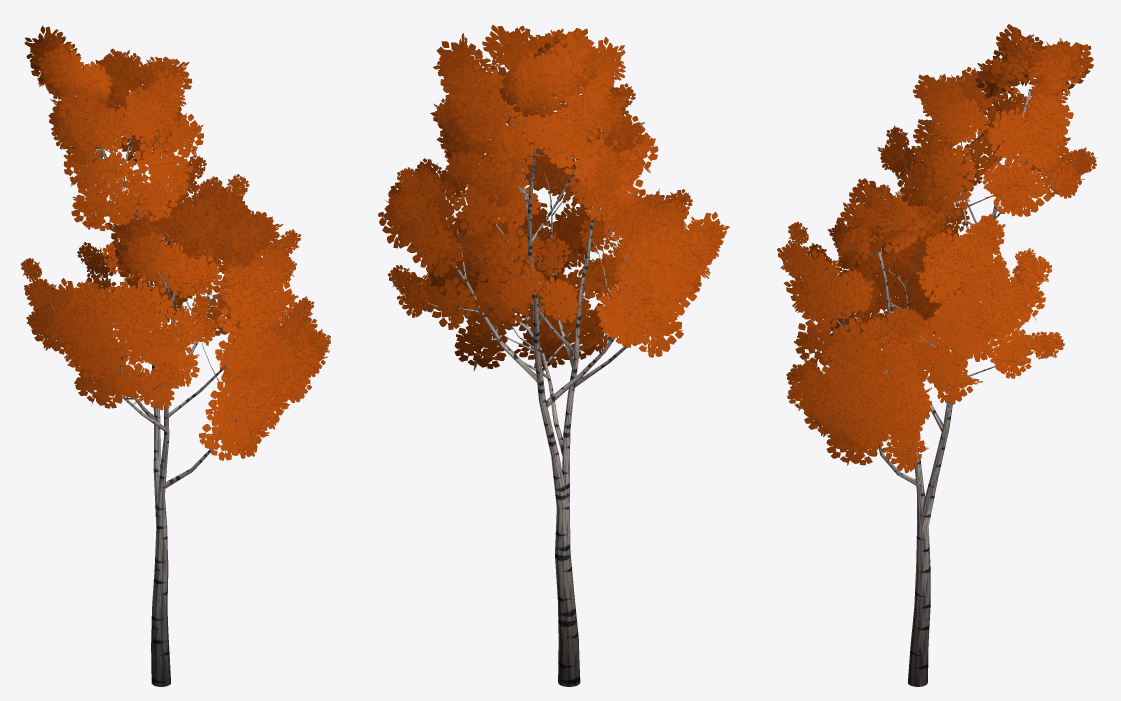
Rendered from Birch_1.glb.
3 views of the same model, side by side, from view 1: azimuth 30°, elevation 25°; view 2: azimuth 150°, elevation 25°; view 3: azimuth 270°, elevation 25° (orthographic). The views are drawn at different scales.
Parts seen in each view (by area): view 1: Birch_1; view 2: Birch_1; view 3: Birch_1.
Boxes of the visible parts, box(x1,y1,x2,y2) form: Birch_1: box(20, 25, 330, 686); Birch_1: box(378, 25, 729, 686); Birch_1: box(777, 24, 1097, 686).
Size of the model in its own units: 6.43 by 13.72 by 6.54.
Materials: 2 (2 with a texture image).
